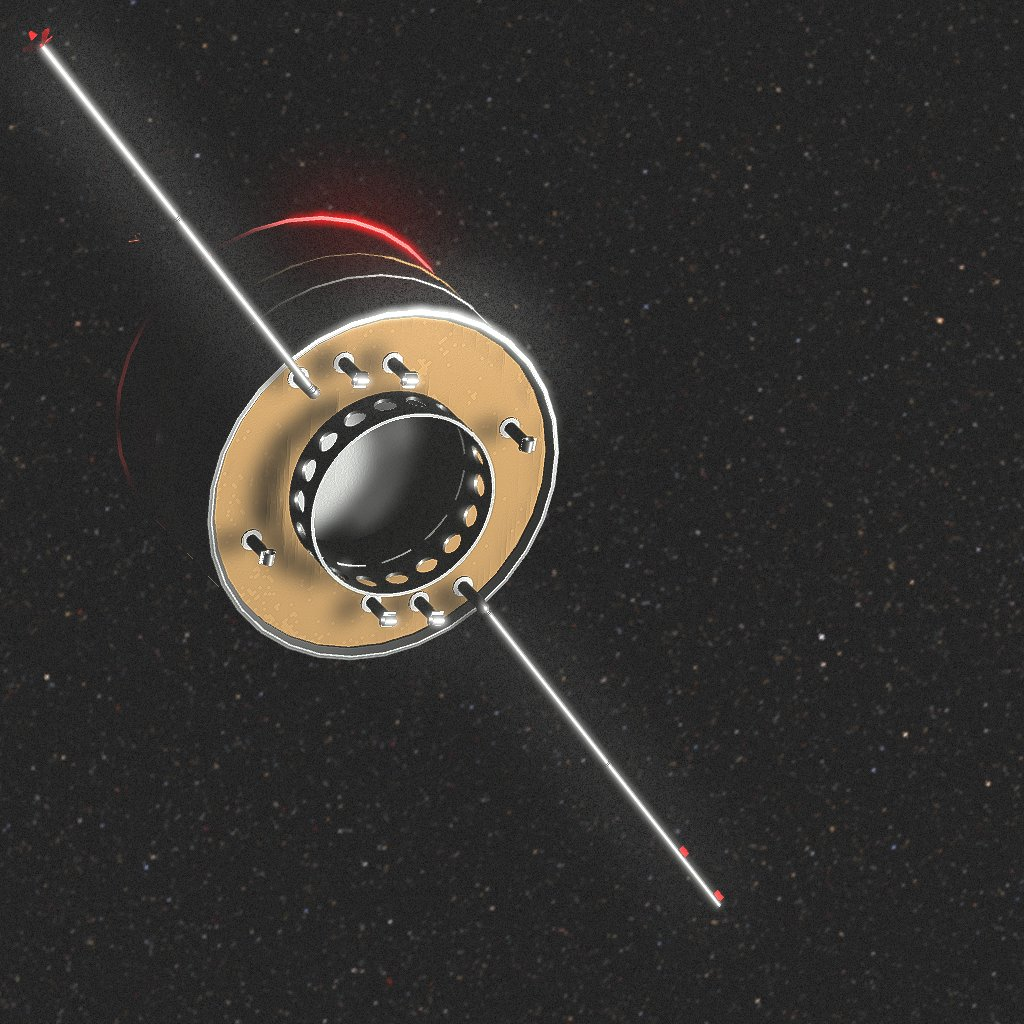double_star: (21, 27, 724, 908)
